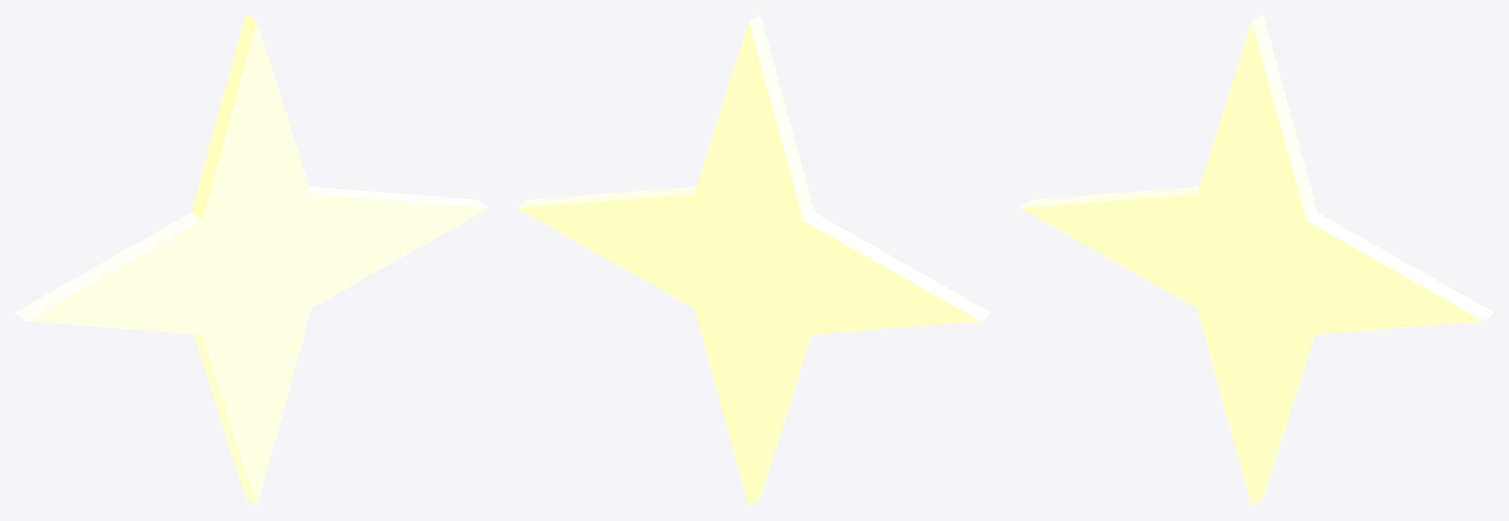
Rendered from fx_sparkle.glb.
3 views of the same model, side by side, from view 1: azimuth 30°, elevation 25°; view 2: azimuth 150°, elevation 25°; view 3: azimuth 330°, elevation 25° (orthographic).
Parts seen in each view (by area): view 1: SM_FxSparkle; view 2: SM_FxSparkle; view 3: SM_FxSparkle.
Part boxes in pixels (left/top/right/bottom): SM_FxSparkle: left=14, top=14, right=488, bottom=506; SM_FxSparkle: left=517, top=14, right=991, bottom=506; SM_FxSparkle: left=1020, top=14, right=1494, bottom=506.
Bounding box in the file's own units: 0.24 × 0.24 × 0.01.
